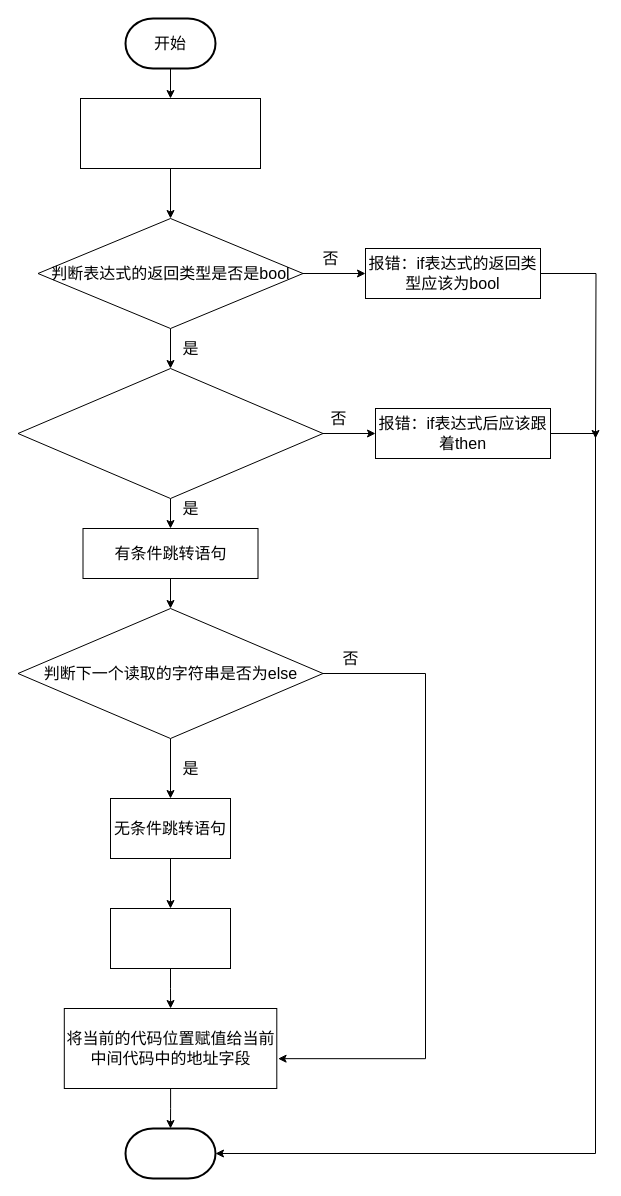
Some shapes in this 621 by 1196 pixel diagram are drawn without their labels. The centre of each missing label's shape, as x and y in pixels:
判断下一个读取的字符串是否为then: (170,433)
合并之前的假链接出口: (170,938)
结束: (170,1153)
读取一行进行词法分析: (170,133)
